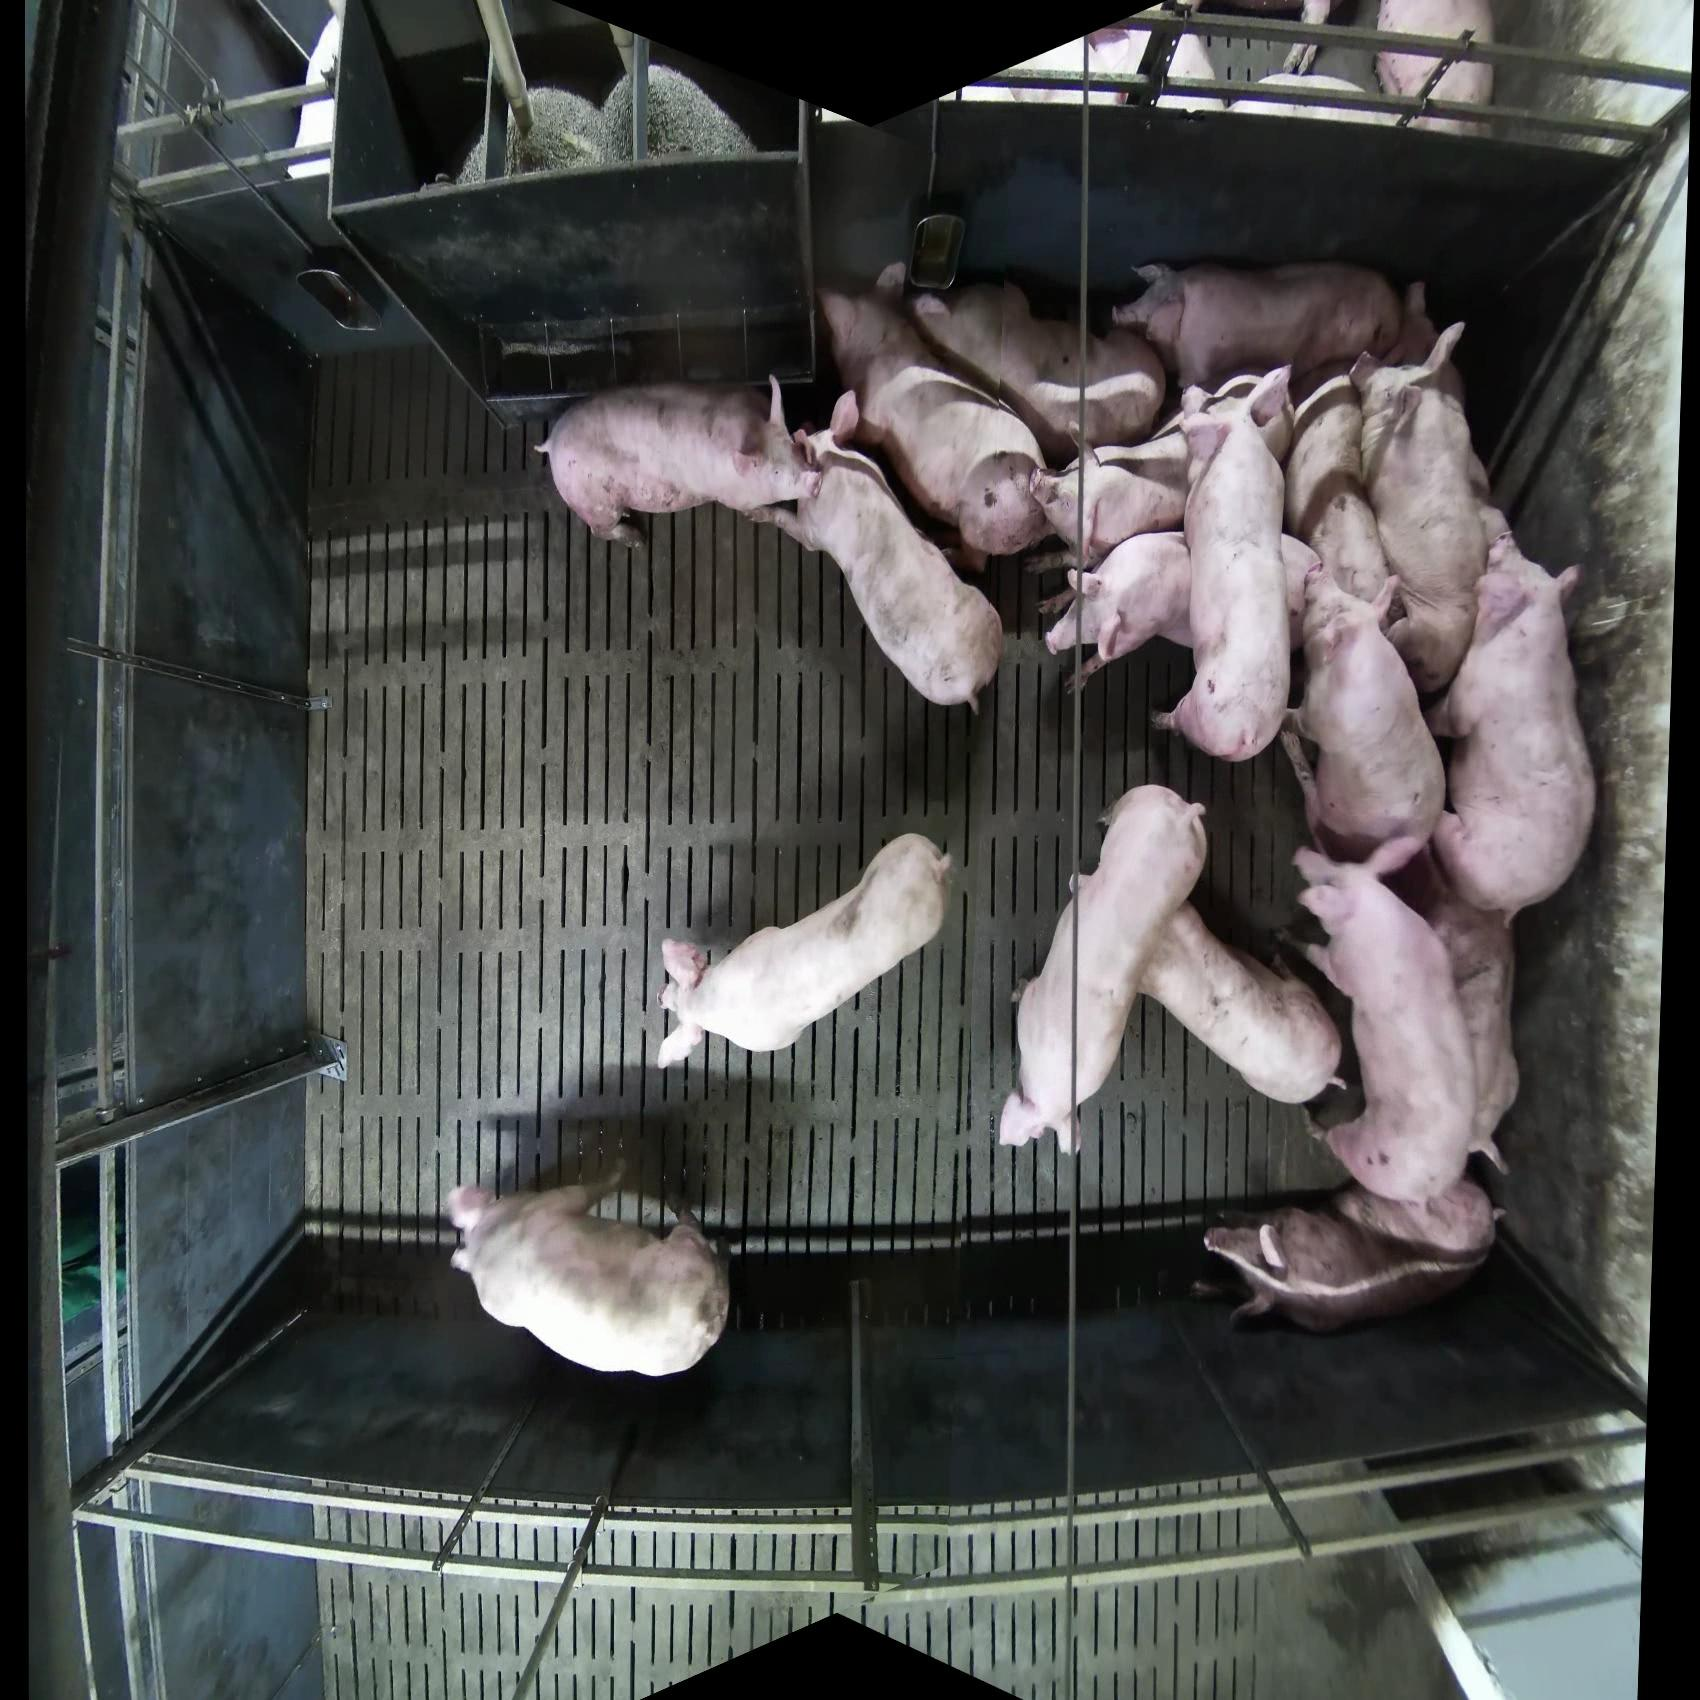pig: (743, 392, 1006, 716), (995, 782, 1210, 1157), (1283, 838, 1482, 1203), (655, 831, 954, 1073), (816, 262, 1054, 564), (1424, 534, 1599, 925), (444, 1161, 732, 1379), (1152, 363, 1295, 764), (1353, 321, 1496, 697), (1289, 540, 1448, 878), (534, 375, 825, 551), (909, 277, 1168, 467), (1041, 526, 1322, 697), (1203, 1177, 1501, 1336), (1136, 900, 1347, 1105), (431, 64, 758, 190), (1112, 258, 1409, 395), (1400, 848, 1523, 1177), (1283, 364, 1392, 601), (1031, 434, 1189, 571), (439, 86, 610, 185), (1375, 2, 1498, 137), (598, 62, 757, 163)
